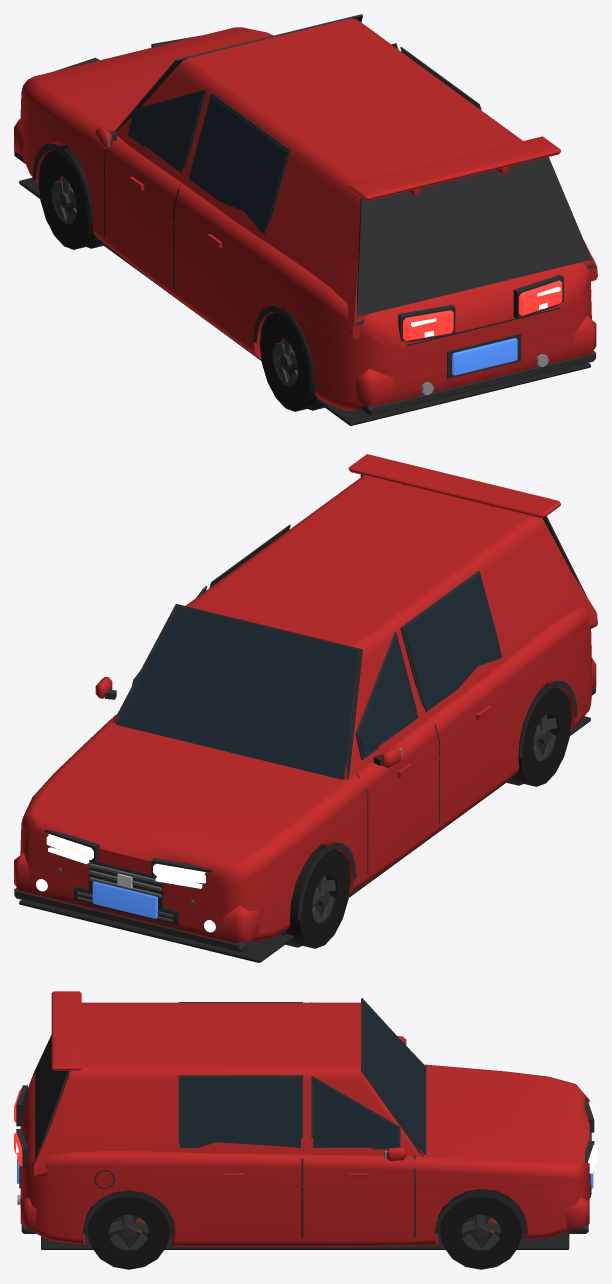
File: car_hatchback_gt_red.glb
3 views of the same model, one above another, from view 1: azimuth 30°, elevation 25°; view 2: azimuth 150°, elevation 25°; view 3: azimuth 270°, elevation 25° (orthographic). The views are drawn at different scales.
Visible parts, largest first — view 1: Body, Trim, Glass, Wheel_FL, Wheel_RL, Lights, Plate_R; view 2: Body, Glass, Trim, Wheel_FL, Wheel_RL, Lights, Plate_F; view 3: Body, Glass, Trim, Wheel_FR, Wheel_RR, Lights.
Part boxes in pixels (<box>): Body: <box>14,18,597,410</box>; Trim: <box>14,14,595,425</box>; Glass: <box>107,18,358,234</box>; Wheel_FL: <box>38,146,97,249</box>; Wheel_RL: <box>259,309,319,411</box>; Lights: <box>403,280,562,340</box>; Plate_R: <box>452,338,517,375</box>; Body: <box>14,454,597,943</box>; Glass: <box>108,519,543,779</box>; Trim: <box>14,474,595,962</box>; Wheel_FL: <box>285,845,350,948</box>; Wheel_RL: <box>512,684,571,786</box>; Lights: <box>36,834,215,932</box>; Plate_F: <box>92,881,157,918</box>; Body: <box>20,991,589,1246</box>; Glass: <box>65,1001,426,1158</box>; Trim: <box>16,998,594,1249</box>; Wheel_FR: <box>440,1189,521,1269</box>; Wheel_RR: <box>88,1190,169,1269</box>; Lights: <box>14,1089,597,1210</box>.
Bounding box in the file's own units: 2.04 × 1.57 × 4.31.
